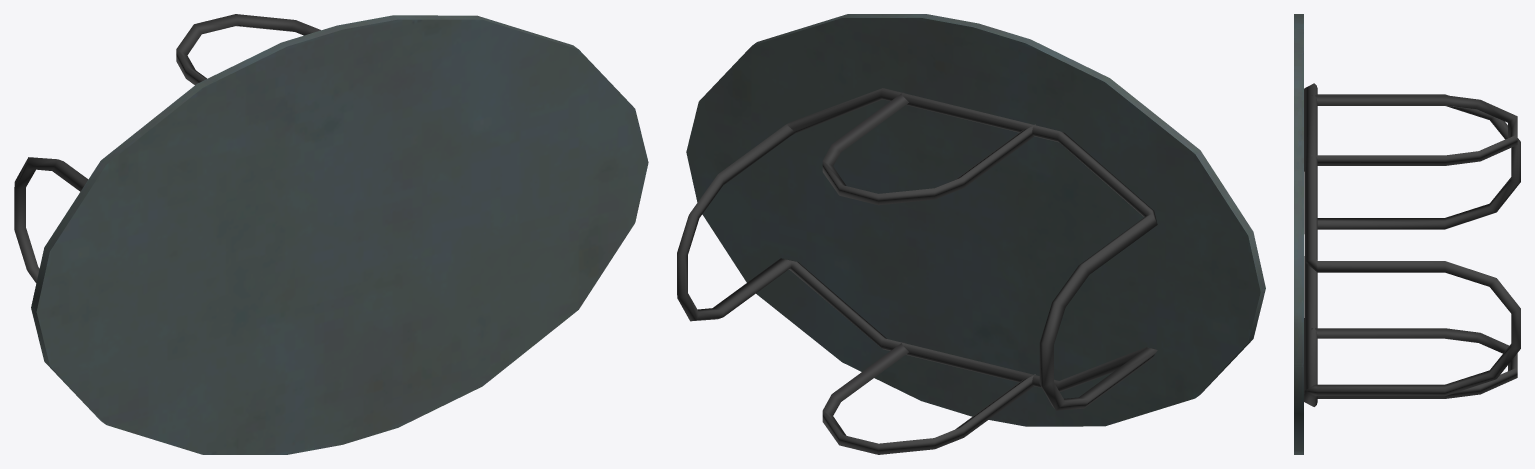
Rendered from nt_2020_glass_table_LOD1.obj.
3 renders of one model, left to right at view 1: azimuth 30°, elevation 25°; view 2: azimuth 150°, elevation 25°; view 3: azimuth 270°, elevation 25°, orthographic. The views are drawn at different scales.
Parts seen in each view (by area): view 1: mtl_nt_2020_glass_table, mtl_nt_2020_glass_table_metal; view 2: mtl_nt_2020_glass_table, mtl_nt_2020_glass_table_metal; view 3: mtl_nt_2020_glass_table_metal, mtl_nt_2020_glass_table.
Part boxes in pixels (bbox=[...]): mtl_nt_2020_glass_table: bbox=[31, 15, 648, 454]; mtl_nt_2020_glass_table_metal: bbox=[14, 14, 320, 282]; mtl_nt_2020_glass_table: bbox=[686, 14, 1265, 426]; mtl_nt_2020_glass_table_metal: bbox=[677, 88, 1157, 454]; mtl_nt_2020_glass_table_metal: bbox=[1304, 83, 1520, 406]; mtl_nt_2020_glass_table: bbox=[1294, 14, 1303, 454].
Size of the model in its own units: 231 by 150 by 84.75.
